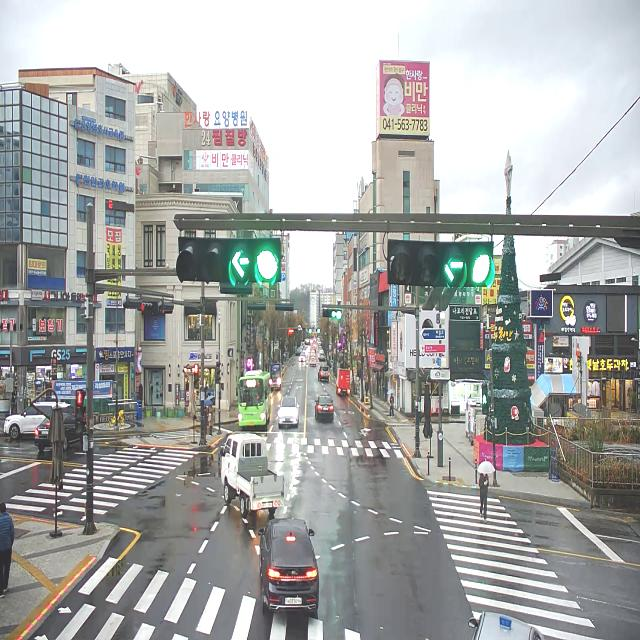Bus: (236, 369, 271, 426)
Car: (258, 518, 319, 610), (468, 611, 545, 640), (277, 396, 300, 424), (315, 394, 333, 416), (270, 362, 282, 389), (318, 366, 330, 382), (310, 357, 316, 366), (299, 354, 305, 362), (319, 354, 325, 361), (296, 349, 300, 355)
Truck: (221, 432, 284, 514), (336, 368, 350, 394)
